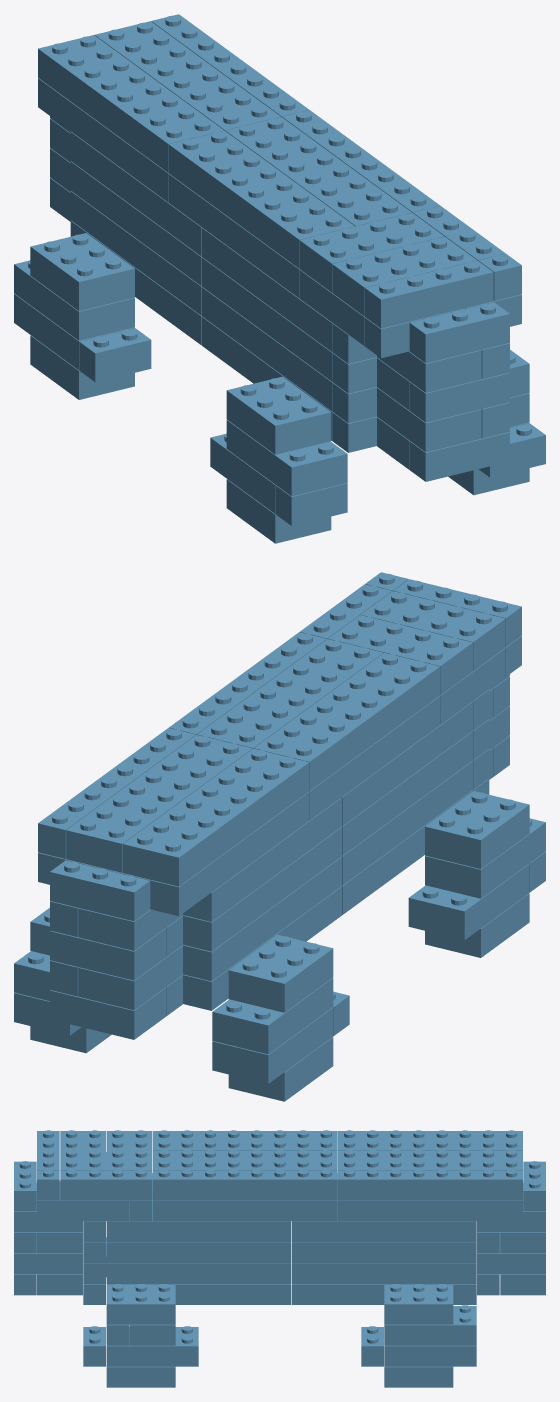
File: 247_train_L2.glb
3 renders of one model, top to bottom at view 1: azimuth 30°, elevation 25°; view 2: azimuth 150°, elevation 25°; view 3: azimuth 270°, elevation 25°, orthographic. The views are drawn at different scales.
Size of the model in its own units: 8.98 by 9.13 by 22.98.
